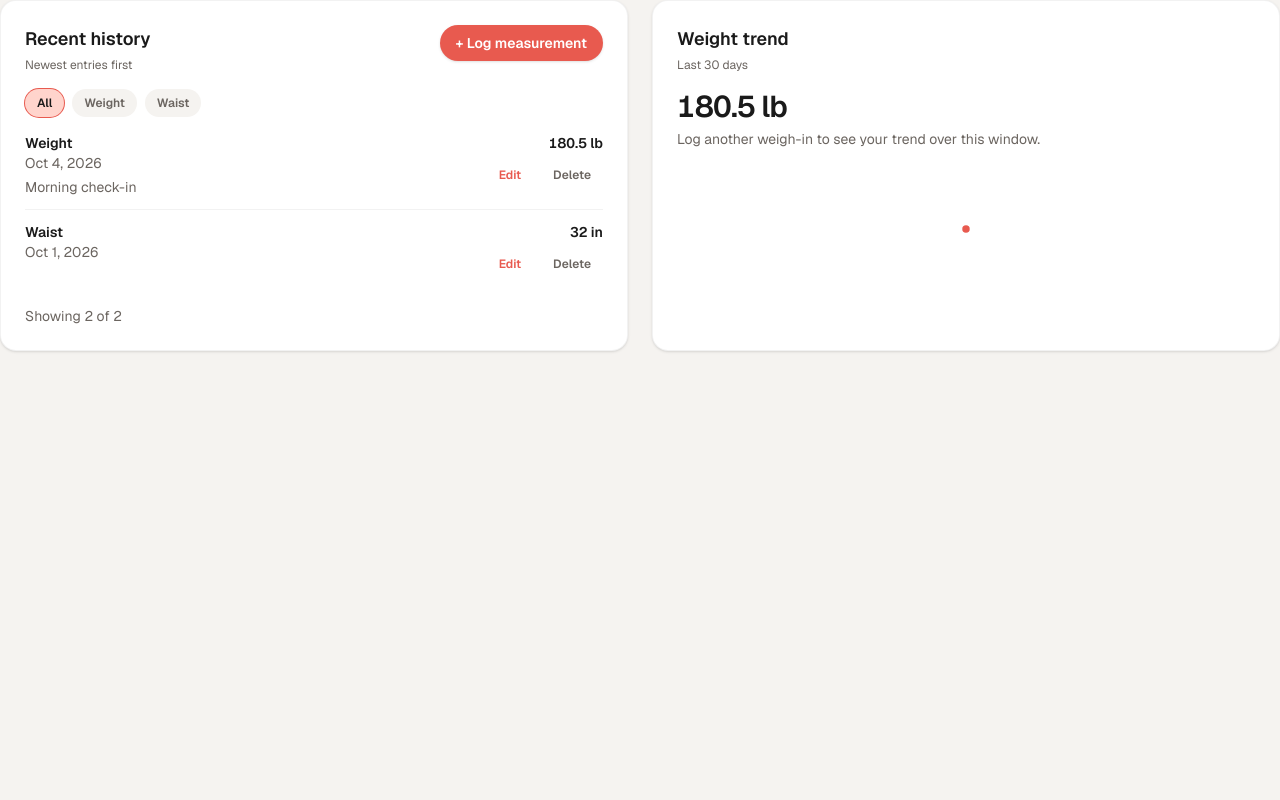
it: measurement history row actions › resets delete after a thrown action and shows a generic error
Click the button with aria-label "Delete Weight on Oct 4, 2026" at (572, 175), box top-left (541, 153), bottom-right (603, 197)
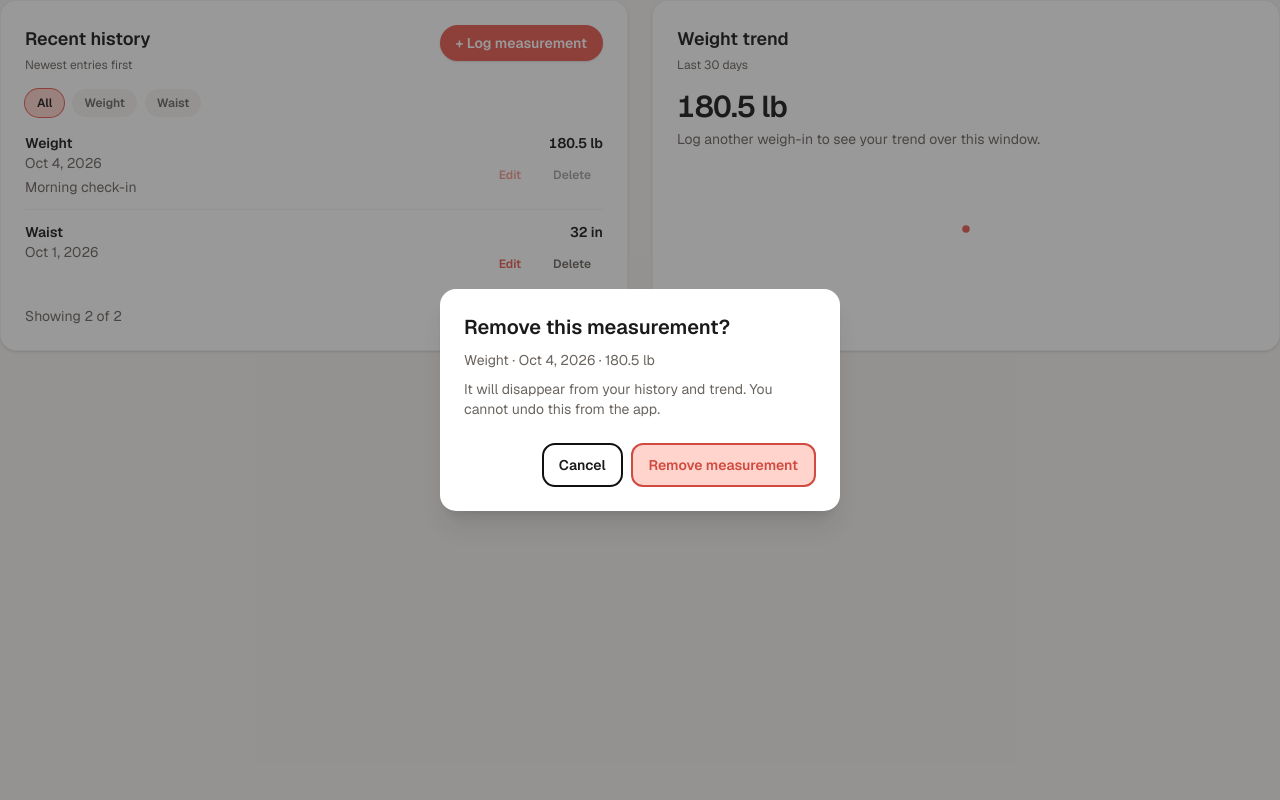
Click the button "Remove measurement" at (723, 465), box top-left (631, 443), bottom-right (816, 487)
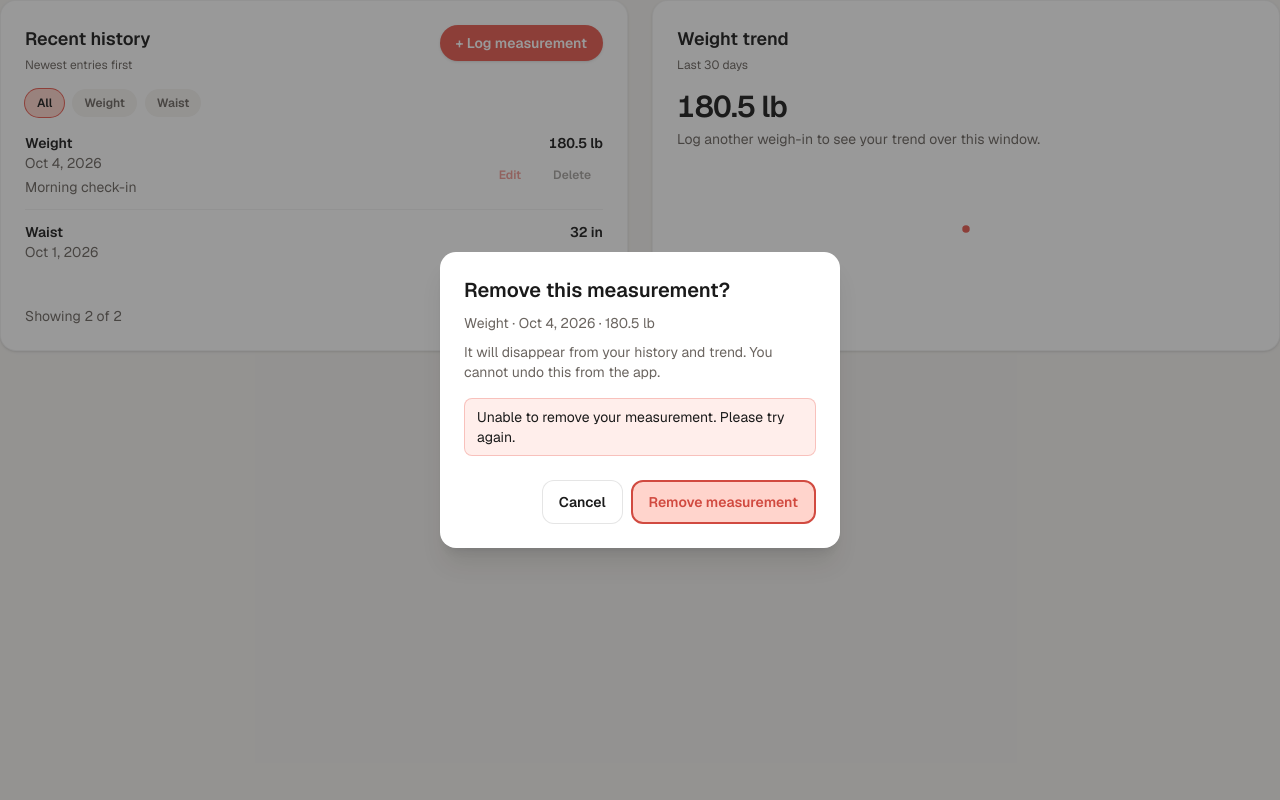
Expected: the button "Cancel" is enabled, top-left (542, 480), bottom-right (622, 524)
Expected: the button "Remove measurement" is enabled, top-left (631, 480), bottom-right (816, 524)
Expected: the message reads "Unable to remove your measurement. Please try again.", top-left (477, 408), bottom-right (785, 446)
Press Escape
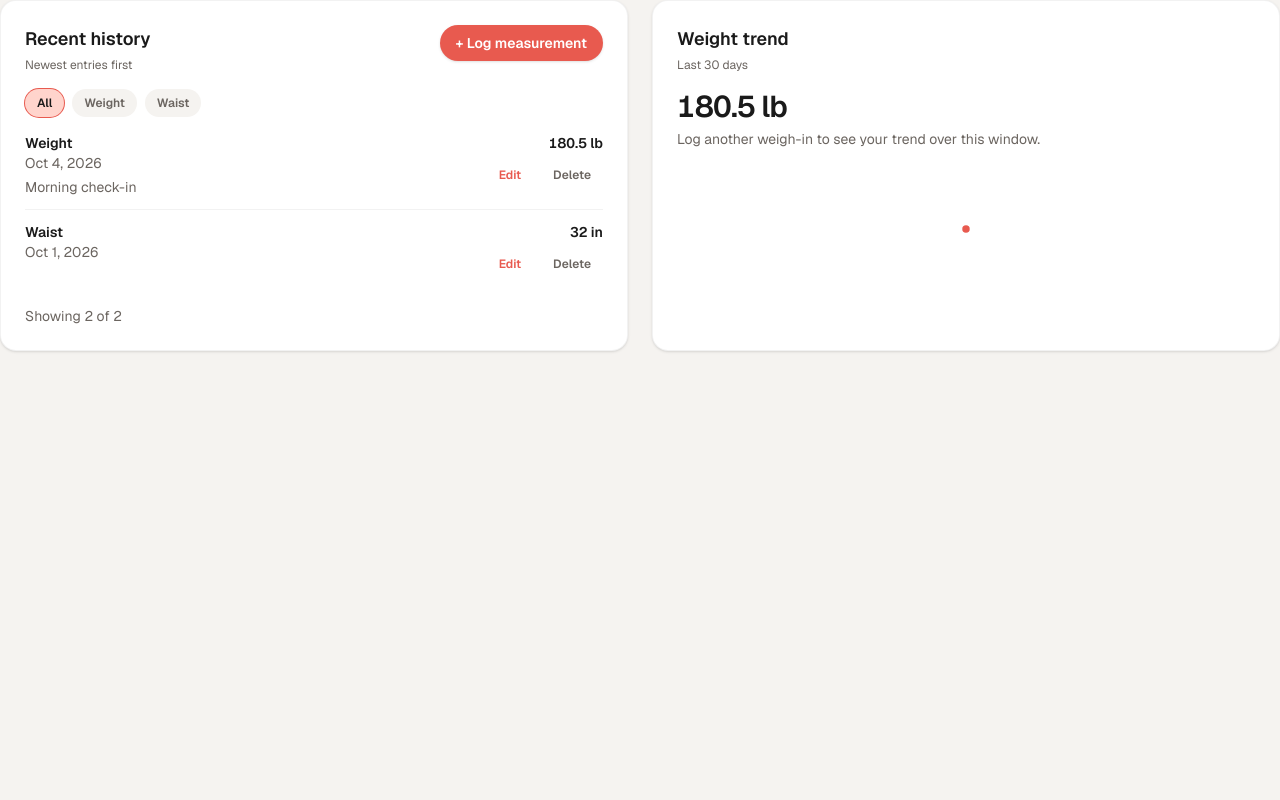
Expected: the dialog is gone
